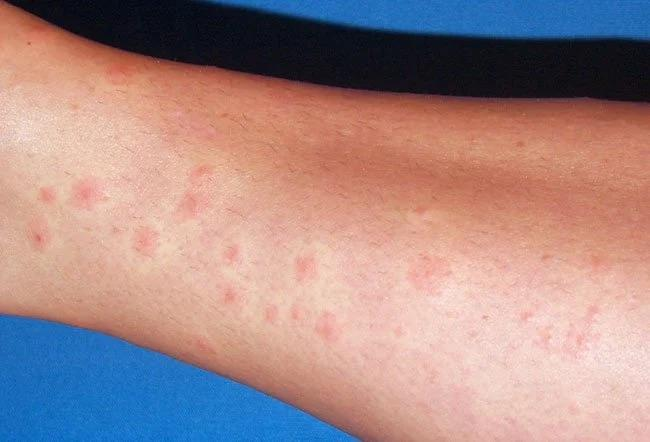Scabies: (208, 244, 355, 346), (29, 169, 107, 246), (390, 241, 464, 306), (210, 248, 263, 328), (178, 166, 218, 228), (123, 213, 163, 272)
